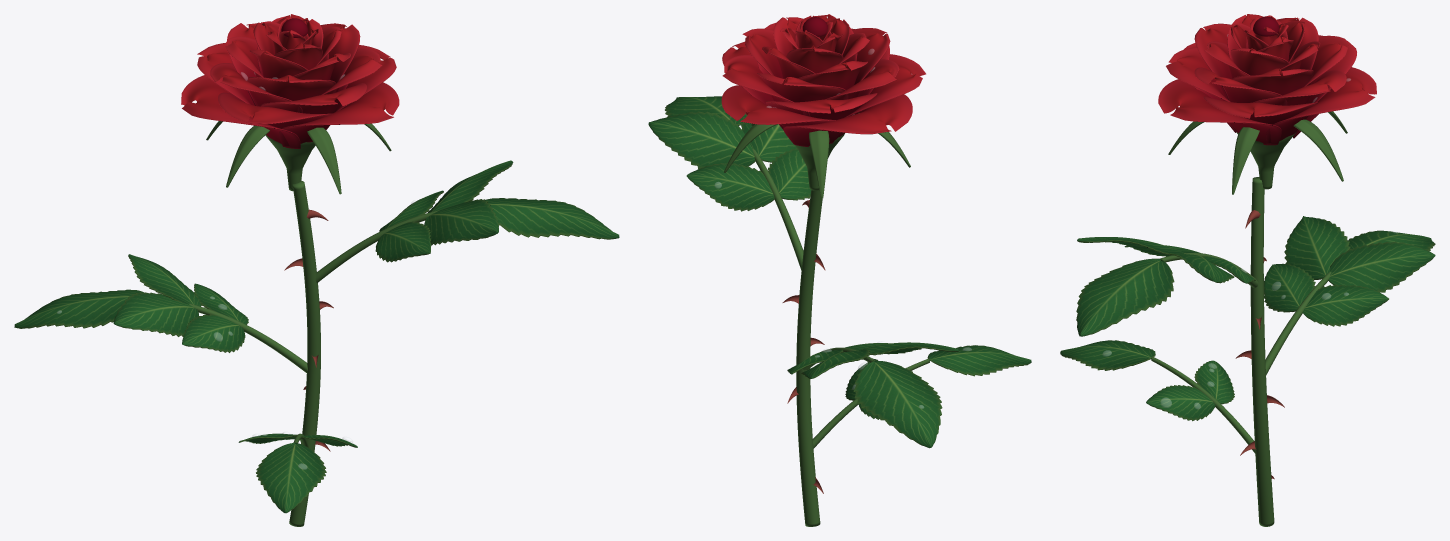
Rendered from rosa1.glb.
3 renders of one model, left to right at view 1: azimuth 30°, elevation 25°; view 2: azimuth 150°, elevation 25°; view 3: azimuth 270°, elevation 25°, orthographic.
Parts seen in each view (by area): view 1: Rosa_Roja_3D; view 2: Rosa_Roja_3D; view 3: Rosa_Roja_3D.
Part boxes in pixels (x1,y1,x2,y2): Rosa_Roja_3D: [14, 14, 619, 526]; Rosa_Roja_3D: [648, 14, 1031, 526]; Rosa_Roja_3D: [1060, 14, 1435, 526].
Size of the model in its own units: 0.2747 by 0.3092 by 0.2084.
Materials: 5 (1 with a texture image).
